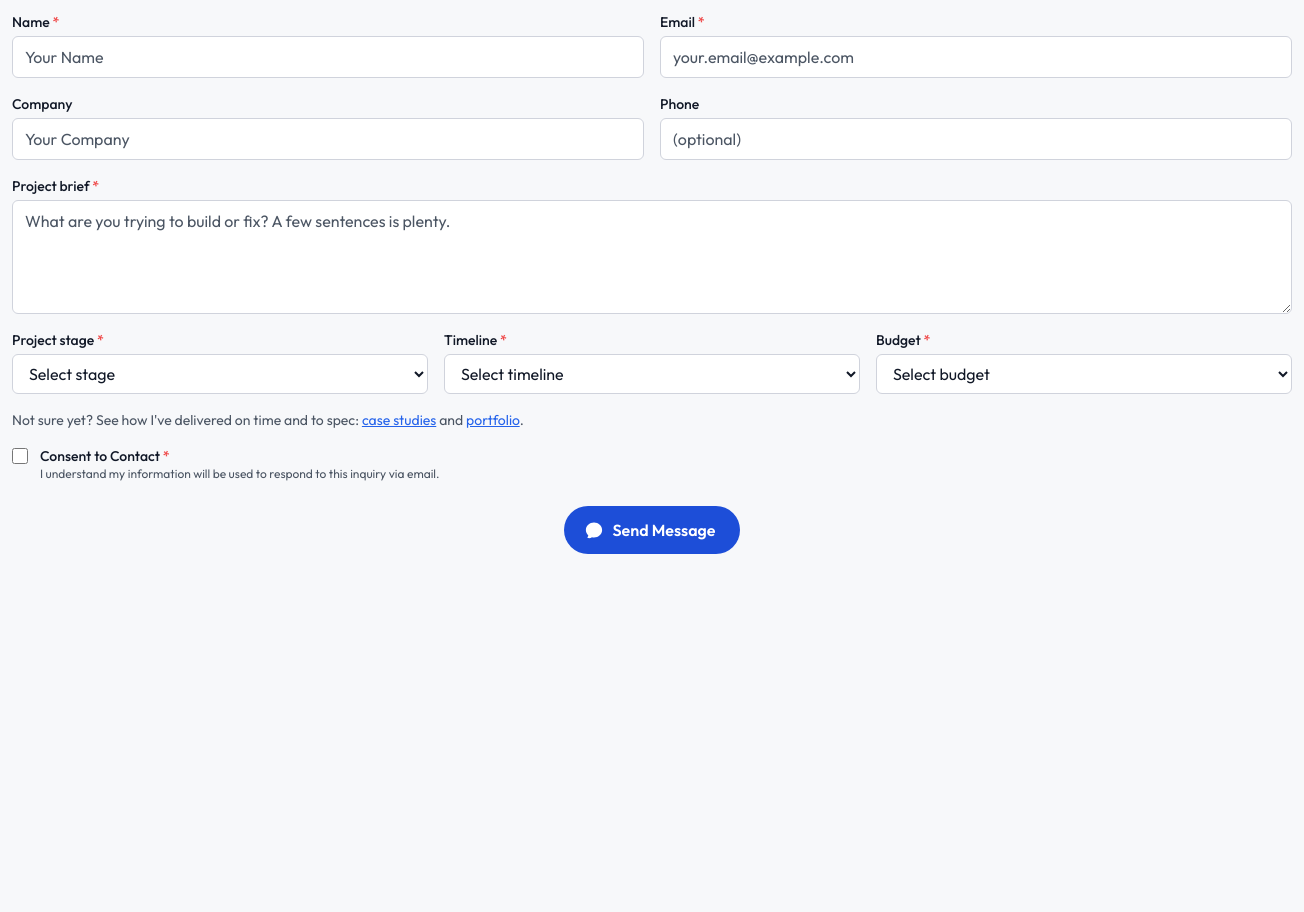
Test: <LeadForm /> › blocks submission and shows validation errors when required fields are empty
The width and height of the screenshot is (1304, 912).
Click the button "Send Message" at x=652, y=530, box x1=564 y1=506 x2=740 y2=554
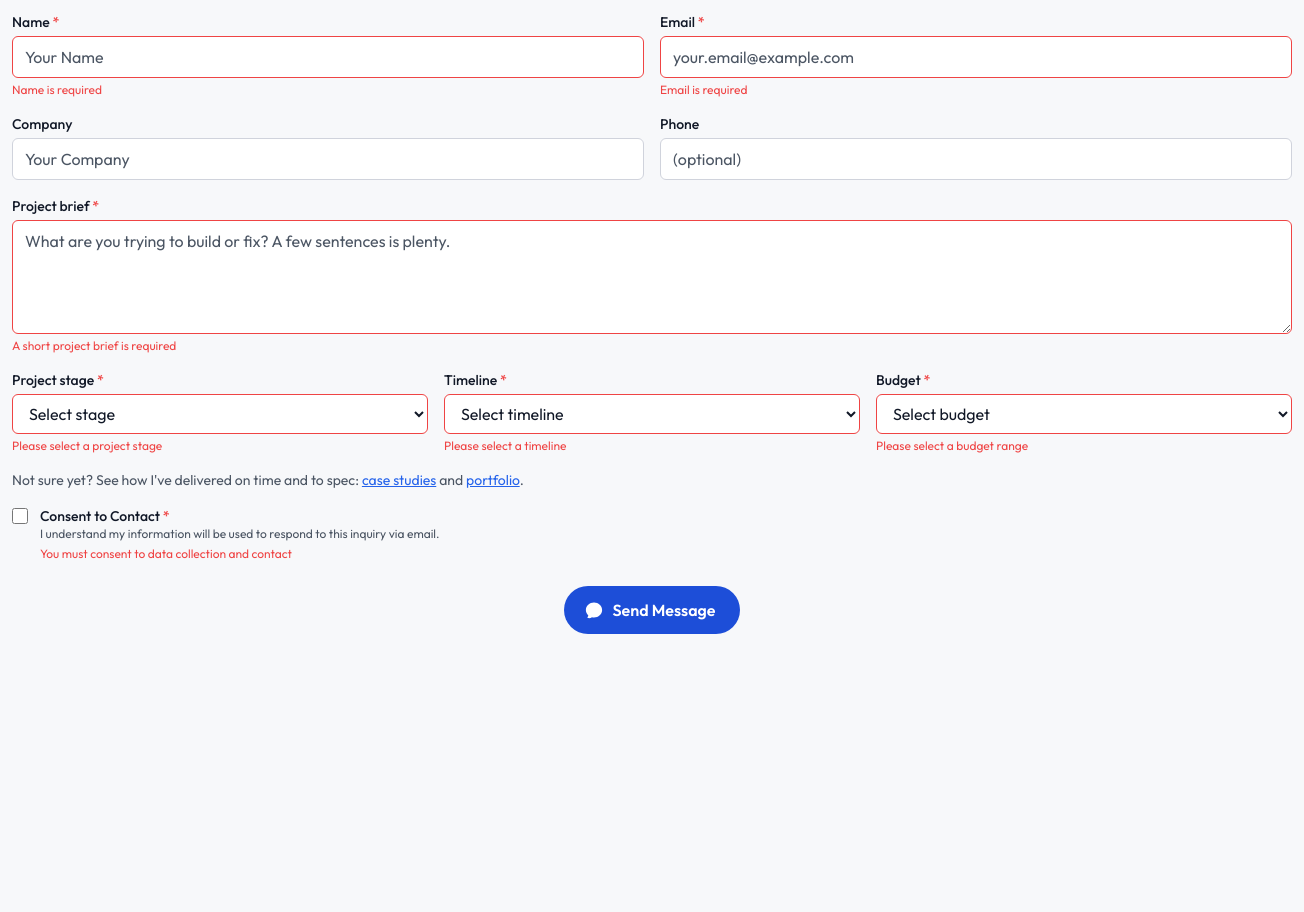
Expected: the text "Name is required" is shown, x1=12 y1=82 x2=102 y2=97
Expected: the text "Email is required" is shown, x1=660 y1=82 x2=748 y2=97
Expected: the text "A short project brief is required" is shown, x1=12 y1=338 x2=176 y2=353
